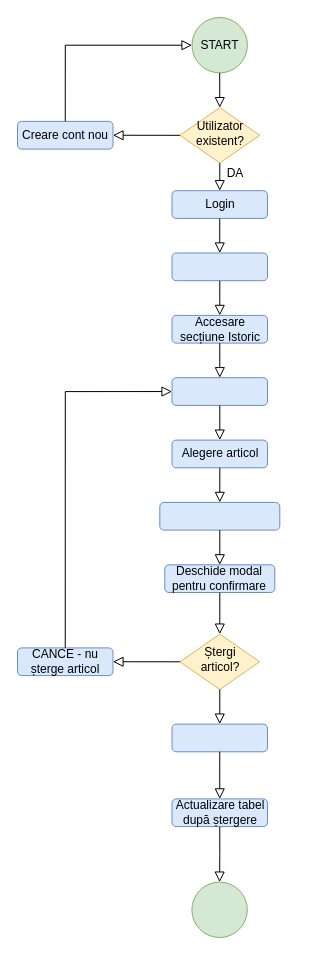
This 309x955 diagram has some shape labels left out. Each missing label, with the centre of its shape:
"Afișare pagină Dashboard" goes at point 219,266.
"Afișare tabel istoric" goes at point 219,391.
"Apasă buton pentru ștergere articol" goes at point 219,515.
"STOP" goes at point 219,909.
"Ștergere articol" goes at point 219,737.
